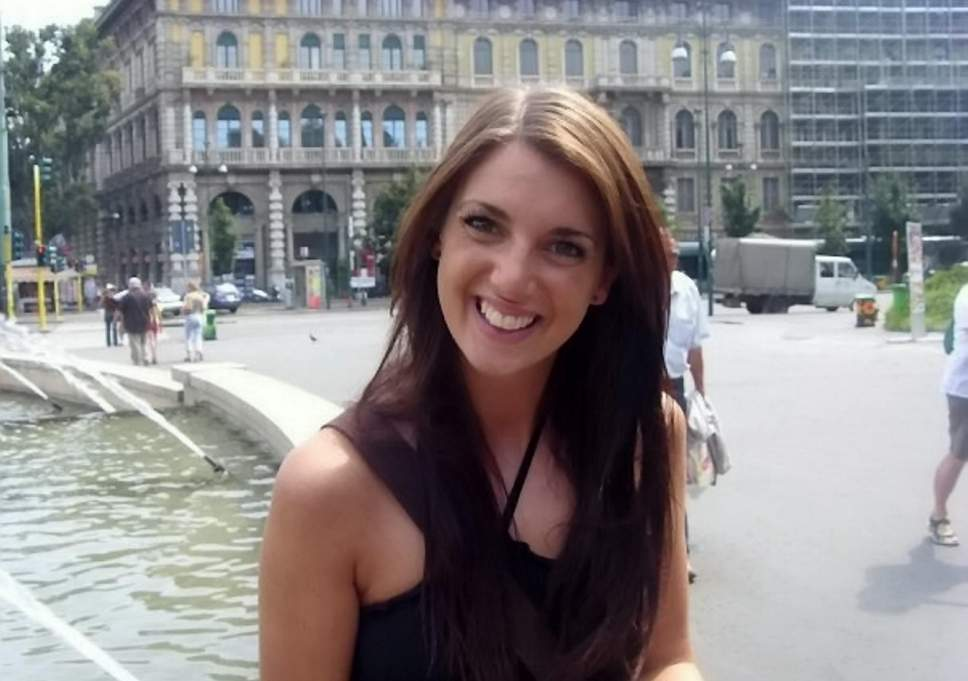stroke: (445, 159, 613, 372)
